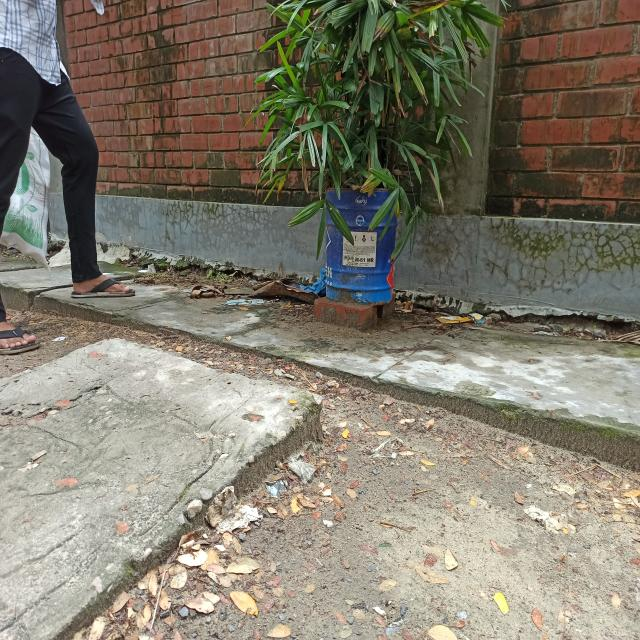artificial_container: (324, 188, 397, 305)
